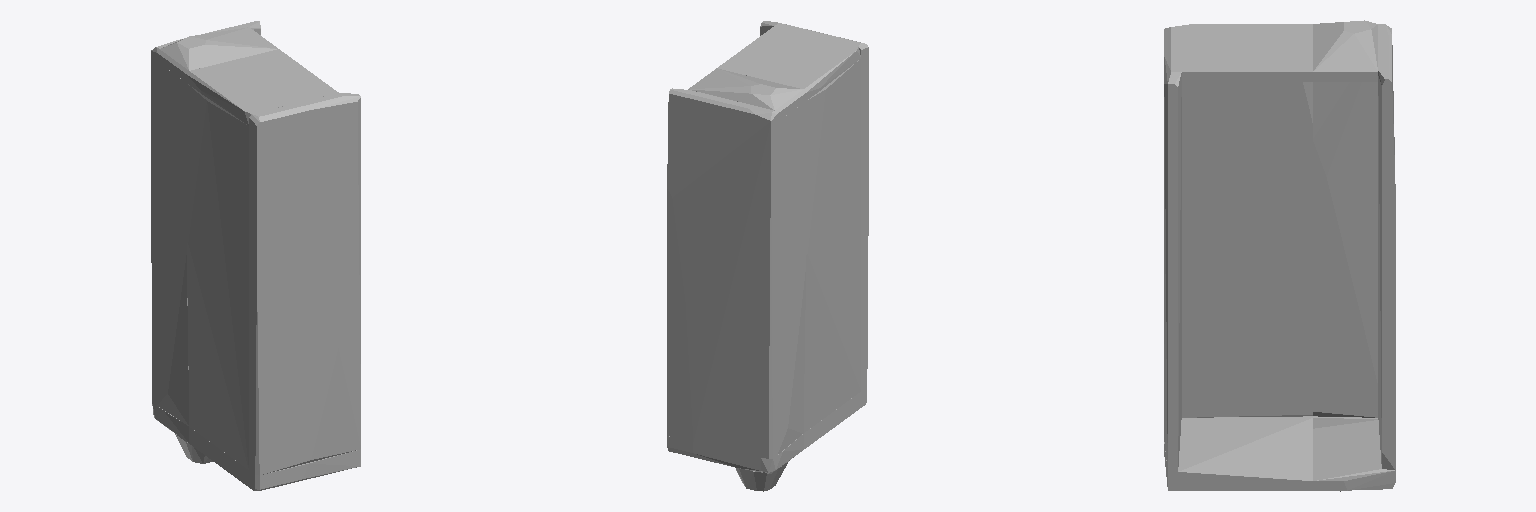
The robot description file, URDF, robot "root":
<robot name="root">
  <link name="link_thingiverse~box_with_mesh_lid_3882617_convex_piece_0">
    <inertial>
      <origin rpy="0 0 0" xyz="0 0 0"/>
      <mass value="5.33E-03"/>
      <inertia ixx="1.05E-05" ixy="-1.07E-07" ixz="-4.17E-07" iyy="1.01E-05" iyz="2.05E-06" izz="1.18E-06"/>
    </inertial>
    <visual>
      <origin rpy="0 0 0" xyz="0 0 0"/>
      <geometry>
        <mesh filename="thingiverse~box_with_mesh_lid_3882617_convex_piece_0.obj" scale="1.0000E+00 1.0000E+00 1.0000E+00"/>
      </geometry>
      <material name="">
        <color rgba="7.50E-01 7.50E-01 7.50E-01 1"/>
      </material>
    </visual>
    <collision>
      <origin rpy="0 0 0" xyz="0 0 0"/>
      <geometry>
        <mesh filename="thingiverse~box_with_mesh_lid_3882617_convex_piece_0.obj" scale="1.0000E+00 1.0000E+00 1.0000E+00"/>
      </geometry>
    </collision>
  </link>
  <link name="link_thingiverse~box_with_mesh_lid_3882617_convex_piece_1">
    <inertial>
      <origin rpy="0 0 0" xyz="0 0 0"/>
      <mass value="1.32E-02"/>
      <inertia ixx="1.53E-05" ixy="-5.60E-07" ixz="1.94E-07" iyy="9.72E-06" iyz="-1.41E-06" izz="7.30E-06"/>
    </inertial>
    <visual>
      <origin rpy="0 0 0" xyz="0 0 0"/>
      <geometry>
        <mesh filename="thingiverse~box_with_mesh_lid_3882617_convex_piece_1.obj" scale="1.0000E+00 1.0000E+00 1.0000E+00"/>
      </geometry>
      <material name="">
        <color rgba="7.50E-01 7.50E-01 7.50E-01 1"/>
      </material>
    </visual>
    <collision>
      <origin rpy="0 0 0" xyz="0 0 0"/>
      <geometry>
        <mesh filename="thingiverse~box_with_mesh_lid_3882617_convex_piece_1.obj" scale="1.0000E+00 1.0000E+00 1.0000E+00"/>
      </geometry>
    </collision>
  </link>
  <joint name="link_thingiverse~box_with_mesh_lid_3882617_convex_piece_1_joint" type="fixed">
    <origin rpy="0 0 0" xyz="0 0 0"/>
    <parent link="link_thingiverse~box_with_mesh_lid_3882617_convex_piece_0"/>
    <child link="link_thingiverse~box_with_mesh_lid_3882617_convex_piece_1"/>
  </joint>
  <link name="link_thingiverse~box_with_mesh_lid_3882617_convex_piece_2">
    <inertial>
      <origin rpy="0 0 0" xyz="0 0 0"/>
      <mass value="1.06E-03"/>
      <inertia ixx="2.68E-06" ixy="-5.36E-08" ixz="1.88E-07" iyy="2.49E-06" iyz="-7.02E-07" izz="2.32E-07"/>
    </inertial>
    <visual>
      <origin rpy="0 0 0" xyz="0 0 0"/>
      <geometry>
        <mesh filename="thingiverse~box_with_mesh_lid_3882617_convex_piece_2.obj" scale="1.0000E+00 1.0000E+00 1.0000E+00"/>
      </geometry>
      <material name="">
        <color rgba="7.50E-01 7.50E-01 7.50E-01 1"/>
      </material>
    </visual>
    <collision>
      <origin rpy="0 0 0" xyz="0 0 0"/>
      <geometry>
        <mesh filename="thingiverse~box_with_mesh_lid_3882617_convex_piece_2.obj" scale="1.0000E+00 1.0000E+00 1.0000E+00"/>
      </geometry>
    </collision>
  </link>
  <joint name="link_thingiverse~box_with_mesh_lid_3882617_convex_piece_2_joint" type="fixed">
    <origin rpy="0 0 0" xyz="0 0 0"/>
    <parent link="link_thingiverse~box_with_mesh_lid_3882617_convex_piece_1"/>
    <child link="link_thingiverse~box_with_mesh_lid_3882617_convex_piece_2"/>
  </joint>
  <link name="link_thingiverse~box_with_mesh_lid_3882617_convex_piece_3">
    <inertial>
      <origin rpy="0 0 0" xyz="0 0 0"/>
      <mass value="1.21E-02"/>
      <inertia ixx="1.38E-05" ixy="5.12E-07" ixz="8.61E-08" iyy="8.76E-06" iyz="1.06E-06" izz="6.66E-06"/>
    </inertial>
    <visual>
      <origin rpy="0 0 0" xyz="0 0 0"/>
      <geometry>
        <mesh filename="thingiverse~box_with_mesh_lid_3882617_convex_piece_3.obj" scale="1.0000E+00 1.0000E+00 1.0000E+00"/>
      </geometry>
      <material name="">
        <color rgba="7.50E-01 7.50E-01 7.50E-01 1"/>
      </material>
    </visual>
    <collision>
      <origin rpy="0 0 0" xyz="0 0 0"/>
      <geometry>
        <mesh filename="thingiverse~box_with_mesh_lid_3882617_convex_piece_3.obj" scale="1.0000E+00 1.0000E+00 1.0000E+00"/>
      </geometry>
    </collision>
  </link>
  <joint name="link_thingiverse~box_with_mesh_lid_3882617_convex_piece_3_joint" type="fixed">
    <origin rpy="0 0 0" xyz="0 0 0"/>
    <parent link="link_thingiverse~box_with_mesh_lid_3882617_convex_piece_2"/>
    <child link="link_thingiverse~box_with_mesh_lid_3882617_convex_piece_3"/>
  </joint>
  <link name="link_thingiverse~box_with_mesh_lid_3882617_convex_piece_4">
    <inertial>
      <origin rpy="0 0 0" xyz="0 0 0"/>
      <mass value="6.59E-03"/>
      <inertia ixx="4.67E-06" ixy="4.36E-07" ixz="-3.21E-07" iyy="4.83E-06" iyz="-1.32E-07" izz="1.42E-06"/>
    </inertial>
    <visual>
      <origin rpy="0 0 0" xyz="0 0 0"/>
      <geometry>
        <mesh filename="thingiverse~box_with_mesh_lid_3882617_convex_piece_4.obj" scale="1.0000E+00 1.0000E+00 1.0000E+00"/>
      </geometry>
      <material name="">
        <color rgba="7.50E-01 7.50E-01 7.50E-01 1"/>
      </material>
    </visual>
    <collision>
      <origin rpy="0 0 0" xyz="0 0 0"/>
      <geometry>
        <mesh filename="thingiverse~box_with_mesh_lid_3882617_convex_piece_4.obj" scale="1.0000E+00 1.0000E+00 1.0000E+00"/>
      </geometry>
    </collision>
  </link>
  <joint name="link_thingiverse~box_with_mesh_lid_3882617_convex_piece_4_joint" type="fixed">
    <origin rpy="0 0 0" xyz="0 0 0"/>
    <parent link="link_thingiverse~box_with_mesh_lid_3882617_convex_piece_3"/>
    <child link="link_thingiverse~box_with_mesh_lid_3882617_convex_piece_4"/>
  </joint>
  <link name="link_thingiverse~box_with_mesh_lid_3882617_convex_piece_5">
    <inertial>
      <origin rpy="0 0 0" xyz="0 0 0"/>
      <mass value="2.70E-03"/>
      <inertia ixx="6.30E-06" ixy="5.04E-09" ixz="-5.24E-08" iyy="6.14E-06" iyz="-8.66E-07" izz="4.13E-07"/>
    </inertial>
    <visual>
      <origin rpy="0 0 0" xyz="0 0 0"/>
      <geometry>
        <mesh filename="thingiverse~box_with_mesh_lid_3882617_convex_piece_5.obj" scale="1.0000E+00 1.0000E+00 1.0000E+00"/>
      </geometry>
      <material name="">
        <color rgba="7.50E-01 7.50E-01 7.50E-01 1"/>
      </material>
    </visual>
    <collision>
      <origin rpy="0 0 0" xyz="0 0 0"/>
      <geometry>
        <mesh filename="thingiverse~box_with_mesh_lid_3882617_convex_piece_5.obj" scale="1.0000E+00 1.0000E+00 1.0000E+00"/>
      </geometry>
    </collision>
  </link>
  <joint name="link_thingiverse~box_with_mesh_lid_3882617_convex_piece_5_joint" type="fixed">
    <origin rpy="0 0 0" xyz="0 0 0"/>
    <parent link="link_thingiverse~box_with_mesh_lid_3882617_convex_piece_4"/>
    <child link="link_thingiverse~box_with_mesh_lid_3882617_convex_piece_5"/>
  </joint>
  <link name="link_thingiverse~box_with_mesh_lid_3882617_convex_piece_6">
    <inertial>
      <origin rpy="0 0 0" xyz="0 0 0"/>
      <mass value="2.94E-04"/>
      <inertia ixx="6.11E-07" ixy="-4.74E-08" ixz="1.33E-07" iyy="5.70E-07" iyz="-1.91E-07" izz="1.07E-07"/>
    </inertial>
    <visual>
      <origin rpy="0 0 0" xyz="0 0 0"/>
      <geometry>
        <mesh filename="thingiverse~box_with_mesh_lid_3882617_convex_piece_6.obj" scale="1.0000E+00 1.0000E+00 1.0000E+00"/>
      </geometry>
      <material name="">
        <color rgba="7.50E-01 7.50E-01 7.50E-01 1"/>
      </material>
    </visual>
    <collision>
      <origin rpy="0 0 0" xyz="0 0 0"/>
      <geometry>
        <mesh filename="thingiverse~box_with_mesh_lid_3882617_convex_piece_6.obj" scale="1.0000E+00 1.0000E+00 1.0000E+00"/>
      </geometry>
    </collision>
  </link>
  <joint name="link_thingiverse~box_with_mesh_lid_3882617_convex_piece_6_joint" type="fixed">
    <origin rpy="0 0 0" xyz="0 0 0"/>
    <parent link="link_thingiverse~box_with_mesh_lid_3882617_convex_piece_5"/>
    <child link="link_thingiverse~box_with_mesh_lid_3882617_convex_piece_6"/>
  </joint>
  <link name="link_thingiverse~box_with_mesh_lid_3882617_convex_piece_7">
    <inertial>
      <origin rpy="0 0 0" xyz="0 0 0"/>
      <mass value="2.60E-03"/>
      <inertia ixx="5.56E-06" ixy="1.31E-07" ixz="-3.47E-07" iyy="5.01E-06" iyz="-1.78E-06" izz="8.74E-07"/>
    </inertial>
    <visual>
      <origin rpy="0 0 0" xyz="0 0 0"/>
      <geometry>
        <mesh filename="thingiverse~box_with_mesh_lid_3882617_convex_piece_7.obj" scale="1.0000E+00 1.0000E+00 1.0000E+00"/>
      </geometry>
      <material name="">
        <color rgba="7.50E-01 7.50E-01 7.50E-01 1"/>
      </material>
    </visual>
    <collision>
      <origin rpy="0 0 0" xyz="0 0 0"/>
      <geometry>
        <mesh filename="thingiverse~box_with_mesh_lid_3882617_convex_piece_7.obj" scale="1.0000E+00 1.0000E+00 1.0000E+00"/>
      </geometry>
    </collision>
  </link>
  <joint name="link_thingiverse~box_with_mesh_lid_3882617_convex_piece_7_joint" type="fixed">
    <origin rpy="0 0 0" xyz="0 0 0"/>
    <parent link="link_thingiverse~box_with_mesh_lid_3882617_convex_piece_6"/>
    <child link="link_thingiverse~box_with_mesh_lid_3882617_convex_piece_7"/>
  </joint>
  <link name="link_thingiverse~box_with_mesh_lid_3882617_convex_piece_8">
    <inertial>
      <origin rpy="0 0 0" xyz="0 0 0"/>
      <mass value="3.57E-03"/>
      <inertia ixx="2.78E-06" ixy="-5.38E-07" ixz="-5.85E-08" iyy="2.52E-06" iyz="4.38E-08" izz="1.15E-06"/>
    </inertial>
    <visual>
      <origin rpy="0 0 0" xyz="0 0 0"/>
      <geometry>
        <mesh filename="thingiverse~box_with_mesh_lid_3882617_convex_piece_8.obj" scale="1.0000E+00 1.0000E+00 1.0000E+00"/>
      </geometry>
      <material name="">
        <color rgba="7.50E-01 7.50E-01 7.50E-01 1"/>
      </material>
    </visual>
    <collision>
      <origin rpy="0 0 0" xyz="0 0 0"/>
      <geometry>
        <mesh filename="thingiverse~box_with_mesh_lid_3882617_convex_piece_8.obj" scale="1.0000E+00 1.0000E+00 1.0000E+00"/>
      </geometry>
    </collision>
  </link>
  <joint name="link_thingiverse~box_with_mesh_lid_3882617_convex_piece_8_joint" type="fixed">
    <origin rpy="0 0 0" xyz="0 0 0"/>
    <parent link="link_thingiverse~box_with_mesh_lid_3882617_convex_piece_7"/>
    <child link="link_thingiverse~box_with_mesh_lid_3882617_convex_piece_8"/>
  </joint>
  <link name="link_thingiverse~box_with_mesh_lid_3882617_convex_piece_9">
    <inertial>
      <origin rpy="0 0 0" xyz="0 0 0"/>
      <mass value="1.82E-03"/>
      <inertia ixx="4.54E-06" ixy="-2.36E-08" ixz="-7.94E-08" iyy="4.25E-06" iyz="1.20E-06" izz="4.51E-07"/>
    </inertial>
    <visual>
      <origin rpy="0 0 0" xyz="0 0 0"/>
      <geometry>
        <mesh filename="thingiverse~box_with_mesh_lid_3882617_convex_piece_9.obj" scale="1.0000E+00 1.0000E+00 1.0000E+00"/>
      </geometry>
      <material name="">
        <color rgba="7.50E-01 7.50E-01 7.50E-01 1"/>
      </material>
    </visual>
    <collision>
      <origin rpy="0 0 0" xyz="0 0 0"/>
      <geometry>
        <mesh filename="thingiverse~box_with_mesh_lid_3882617_convex_piece_9.obj" scale="1.0000E+00 1.0000E+00 1.0000E+00"/>
      </geometry>
    </collision>
  </link>
  <joint name="link_thingiverse~box_with_mesh_lid_3882617_convex_piece_9_joint" type="fixed">
    <origin rpy="0 0 0" xyz="0 0 0"/>
    <parent link="link_thingiverse~box_with_mesh_lid_3882617_convex_piece_8"/>
    <child link="link_thingiverse~box_with_mesh_lid_3882617_convex_piece_9"/>
  </joint>
</robot>

--- Render facts (derived) ---
The picture shows the robot from 3 angles, left to right: view 1: azimuth 30°, elevation 25°; view 2: azimuth 150°, elevation 25°; view 3: azimuth 270°, elevation 25°; orthographic projection.
Robot: root — 10 links, 9 joints (9 fixed); root link link_thingiverse~box_with_mesh_lid_3882617_convex_piece_0; default pose: all joints at 0.
Links seen in each view (by area): view 1: link_thingiverse~box_with_mesh_lid_3882617_convex_piece_1, link_thingiverse~box_with_mesh_lid_3882617_convex_piece_4, link_thingiverse~box_with_mesh_lid_3882617_convex_piece_8, link_thingiverse~box_with_mesh_lid_3882617_convex_piece_5, link_thingiverse~box_with_mesh_lid_3882617_convex_piece_9, link_thingiverse~box_with_mesh_lid_3882617_convex_piece_0, link_thingiverse~box_with_mesh_lid_3882617_convex_piece_3, link_thingiverse~box_with_mesh_lid_3882617_convex_piece_6; view 2: link_thingiverse~box_with_mesh_lid_3882617_convex_piece_3, link_thingiverse~box_with_mesh_lid_3882617_convex_piece_4, link_thingiverse~box_with_mesh_lid_3882617_convex_piece_8, link_thingiverse~box_with_mesh_lid_3882617_convex_piece_5, link_thingiverse~box_with_mesh_lid_3882617_convex_piece_1, link_thingiverse~box_with_mesh_lid_3882617_convex_piece_9, link_thingiverse~box_with_mesh_lid_3882617_convex_piece_7, link_thingiverse~box_with_mesh_lid_3882617_convex_piece_0, link_thingiverse~box_with_mesh_lid_3882617_convex_piece_2, link_thingiverse~box_with_mesh_lid_3882617_convex_piece_6; view 3: link_thingiverse~box_with_mesh_lid_3882617_convex_piece_4, link_thingiverse~box_with_mesh_lid_3882617_convex_piece_8, link_thingiverse~box_with_mesh_lid_3882617_convex_piece_0, link_thingiverse~box_with_mesh_lid_3882617_convex_piece_1, link_thingiverse~box_with_mesh_lid_3882617_convex_piece_5, link_thingiverse~box_with_mesh_lid_3882617_convex_piece_3, link_thingiverse~box_with_mesh_lid_3882617_convex_piece_7, link_thingiverse~box_with_mesh_lid_3882617_convex_piece_9.
Link boxes in pixels (<box>): link_thingiverse~box_with_mesh_lid_3882617_convex_piece_1: <box>249,93,360,475</box>; link_thingiverse~box_with_mesh_lid_3882617_convex_piece_4: <box>187,84,248,469</box>; link_thingiverse~box_with_mesh_lid_3882617_convex_piece_8: <box>157,62,188,425</box>; link_thingiverse~box_with_mesh_lid_3882617_convex_piece_5: <box>187,49,338,125</box>; link_thingiverse~box_with_mesh_lid_3882617_convex_piece_9: <box>157,27,277,82</box>; link_thingiverse~box_with_mesh_lid_3882617_convex_piece_0: <box>189,427,360,490</box>; link_thingiverse~box_with_mesh_lid_3882617_convex_piece_3: <box>151,21,260,404</box>; link_thingiverse~box_with_mesh_lid_3882617_convex_piece_6: <box>152,402,188,442</box>; link_thingiverse~box_with_mesh_lid_3882617_convex_piece_3: <box>667,88,776,458</box>; link_thingiverse~box_with_mesh_lid_3882617_convex_piece_4: <box>804,59,860,432</box>; link_thingiverse~box_with_mesh_lid_3882617_convex_piece_8: <box>777,102,805,454</box>; link_thingiverse~box_with_mesh_lid_3882617_convex_piece_5: <box>718,26,860,100</box>; link_thingiverse~box_with_mesh_lid_3882617_convex_piece_1: <box>760,21,868,390</box>; link_thingiverse~box_with_mesh_lid_3882617_convex_piece_9: <box>688,68,805,121</box>; link_thingiverse~box_with_mesh_lid_3882617_convex_piece_7: <box>667,436,762,472</box>; link_thingiverse~box_with_mesh_lid_3882617_convex_piece_0: <box>804,388,866,448</box>; link_thingiverse~box_with_mesh_lid_3882617_convex_piece_2: <box>736,461,788,491</box>; link_thingiverse~box_with_mesh_lid_3882617_convex_piece_6: <box>761,434,803,473</box>; link_thingiverse~box_with_mesh_lid_3882617_convex_piece_4: <box>1182,82,1312,417</box>; link_thingiverse~box_with_mesh_lid_3882617_convex_piece_8: <box>1313,82,1377,417</box>; link_thingiverse~box_with_mesh_lid_3882617_convex_piece_0: <box>1164,416,1312,490</box>; link_thingiverse~box_with_mesh_lid_3882617_convex_piece_1: <box>1164,26,1181,471</box>; link_thingiverse~box_with_mesh_lid_3882617_convex_piece_5: <box>1182,24,1312,81</box>; link_thingiverse~box_with_mesh_lid_3882617_convex_piece_3: <box>1378,24,1395,469</box>; link_thingiverse~box_with_mesh_lid_3882617_convex_piece_7: <box>1313,420,1395,490</box>; link_thingiverse~box_with_mesh_lid_3882617_convex_piece_9: <box>1313,20,1377,81</box>.
Bounding box of the posed robot: 0.0285 × 0.0477 × 0.1031 m (x, y, z).
Meshes: 10 distinct files referenced, 10 mesh visuals loaded (10 OBJ).
